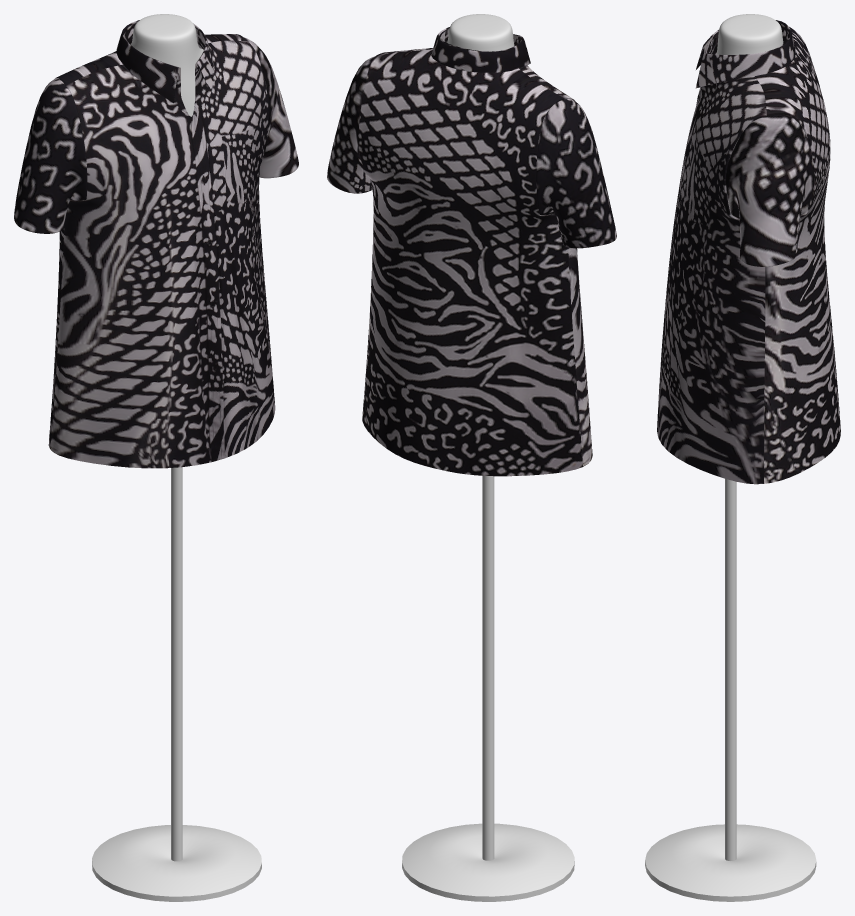
File: Manequin_batik.glb
The picture shows the model from 3 angles, left to right: view 1: azimuth 30°, elevation 25°; view 2: azimuth 150°, elevation 25°; view 3: azimuth 270°, elevation 25°; orthographic projection.
Parts seen in each view (by area): view 1: polySurface13, polySurface17, polySurface18, polySurface14; view 2: polySurface13, polySurface17, polySurface14, polySurface18; view 3: polySurface13, polySurface17, polySurface14, polySurface18.
Boxes of the visible parts, left/top/right/bottom form: polySurface13: left=14, top=23, right=298, bottom=468; polySurface17: left=92, top=467, right=261, bottom=901; polySurface18: left=131, top=14, right=203, bottom=116; polySurface14: left=116, top=20, right=214, bottom=103; polySurface13: left=327, top=28, right=616, bottom=476; polySurface17: left=402, top=476, right=574, bottom=901; polySurface14: left=431, top=27, right=530, bottom=72; polySurface18: left=447, top=14, right=514, bottom=51; polySurface13: left=657, top=22, right=840, bottom=484; polySurface17: left=645, top=479, right=816, bottom=901; polySurface14: left=695, top=20, right=795, bottom=88; polySurface18: left=716, top=14, right=783, bottom=54.
Size of the model in its own units: 54.39 by 156 by 33.02.
Materials: 3 (1 with a texture image).
